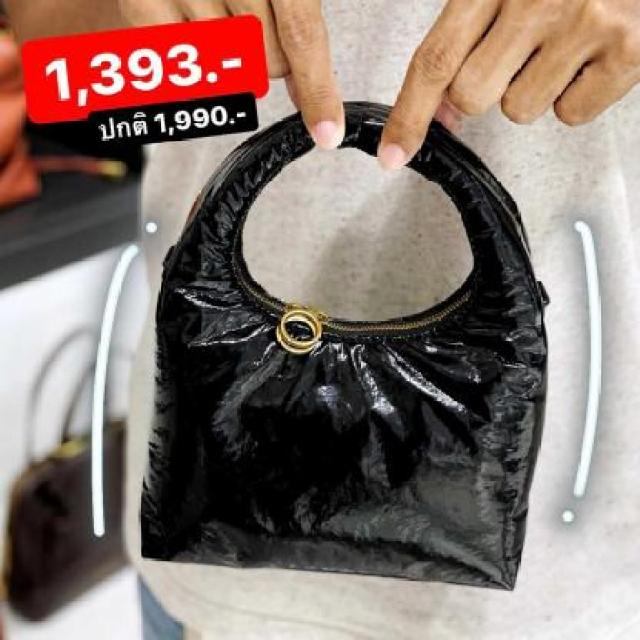Bag: (120, 62, 582, 608)
